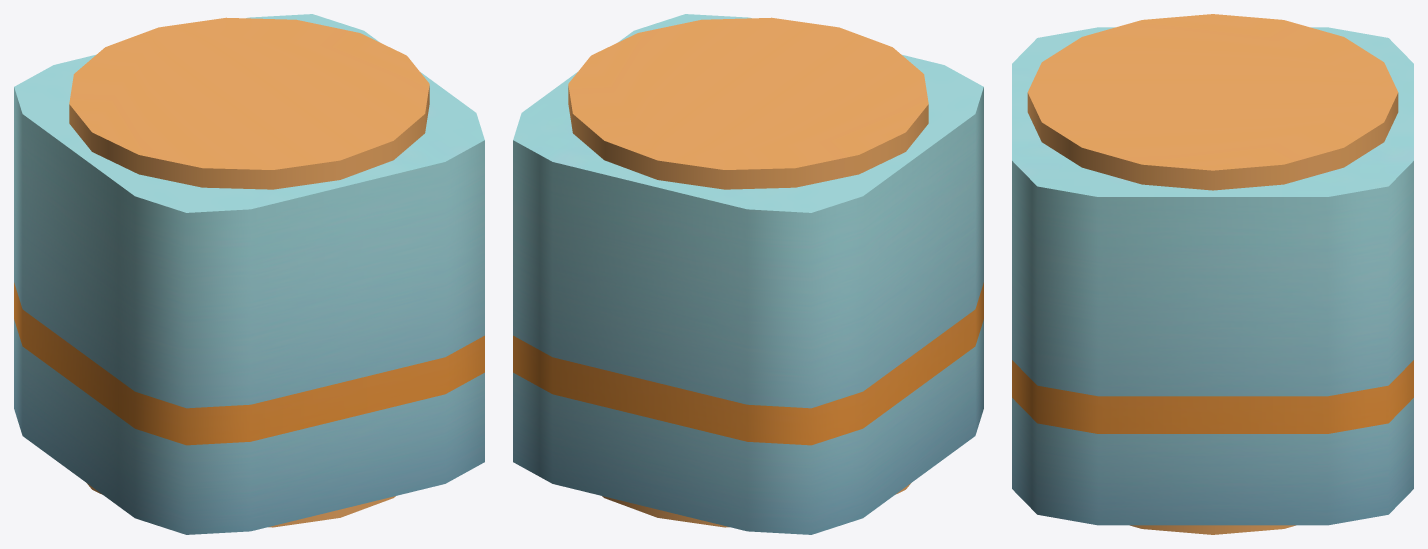
File: Block 1x1.fbx
3 renders of one model, left to right at view 1: azimuth 30°, elevation 25°; view 2: azimuth 150°, elevation 25°; view 3: azimuth 270°, elevation 25°, orthographic.
Parts seen in each view (by area): view 1: Block 1x1; view 2: Block 1x1; view 3: Block 1x1.
Part boxes in pixels (box(x1,y1,x2,y2)): Block 1x1: box(14, 14, 484, 534); Block 1x1: box(513, 14, 983, 534); Block 1x1: box(1012, 14, 1413, 534).
Size of the model in its own units: 100 by 100 by 100.
